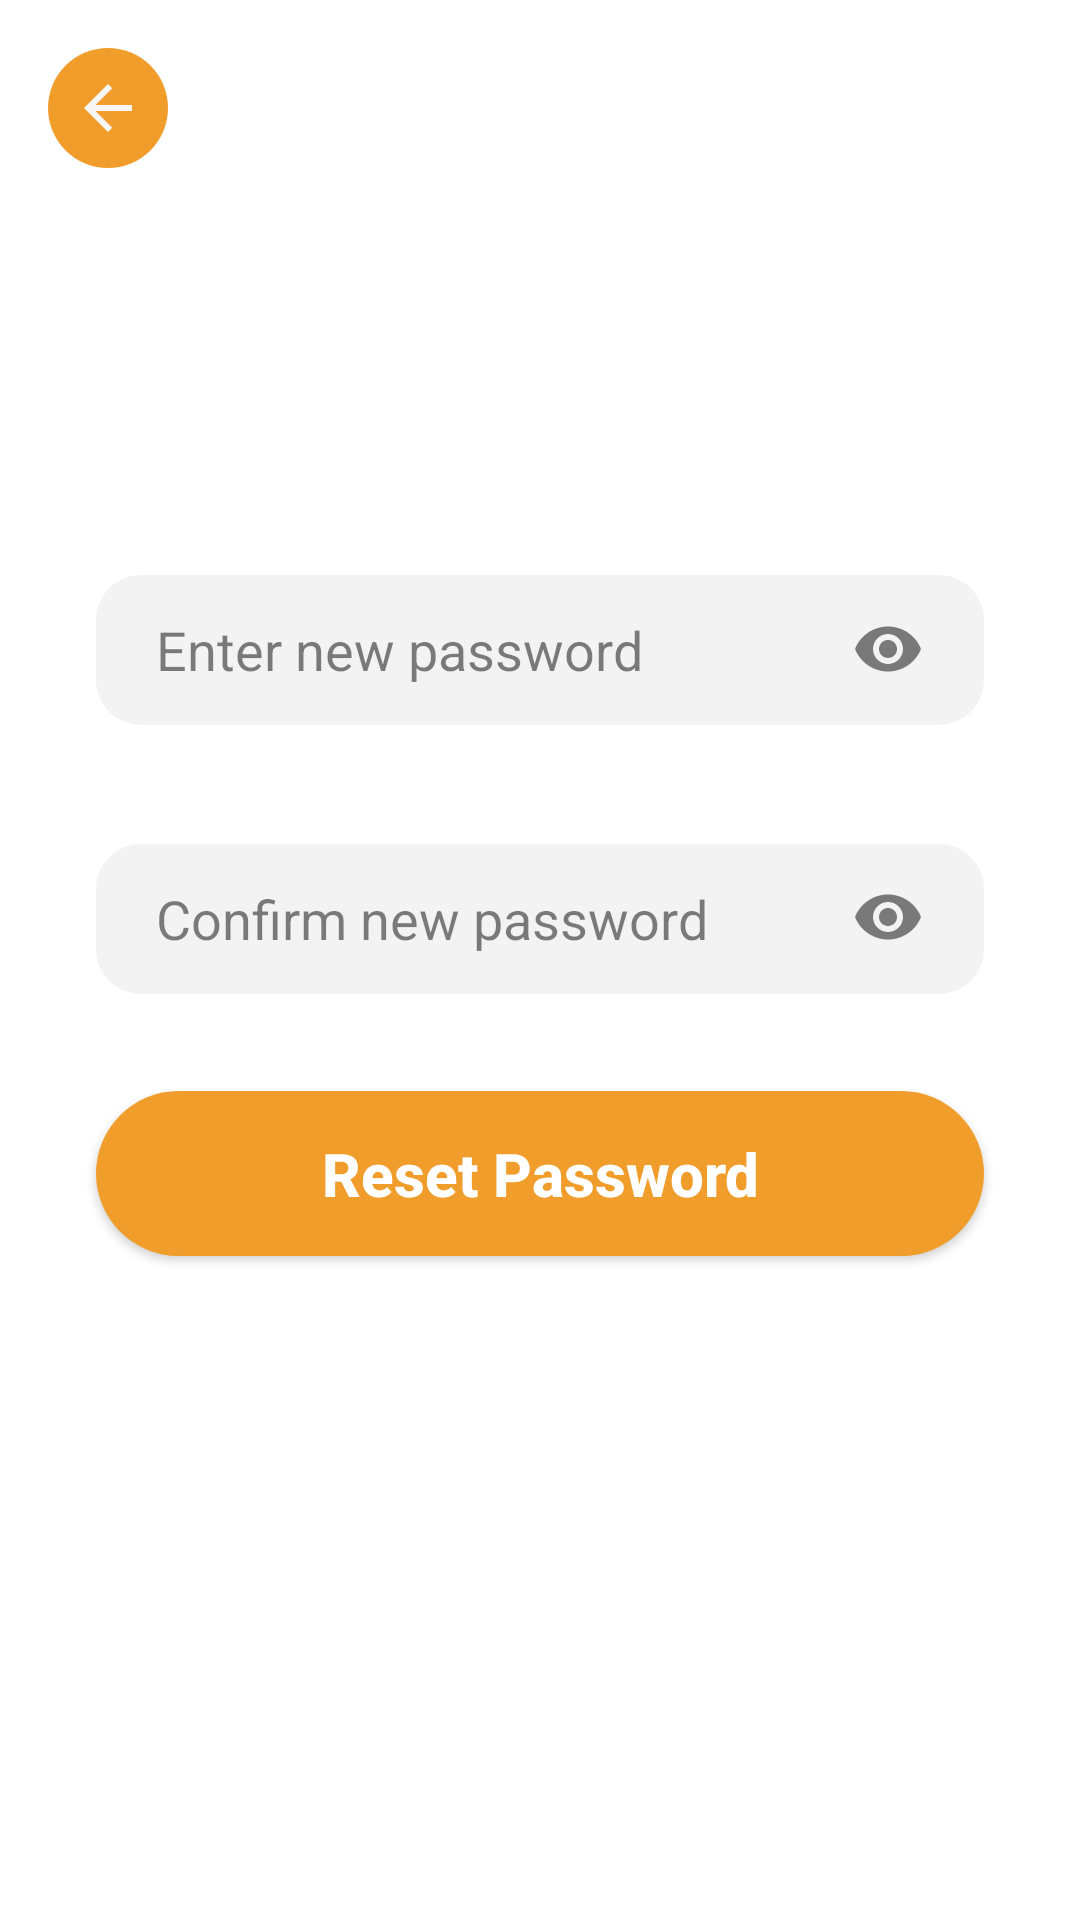

Icons on this 1080×1920 Android screen, each with its box as [x1,y1,x2,y2]:
arrow back: [48,48,168,168]
remove eye: [855,626,921,672], [855,894,921,940]
